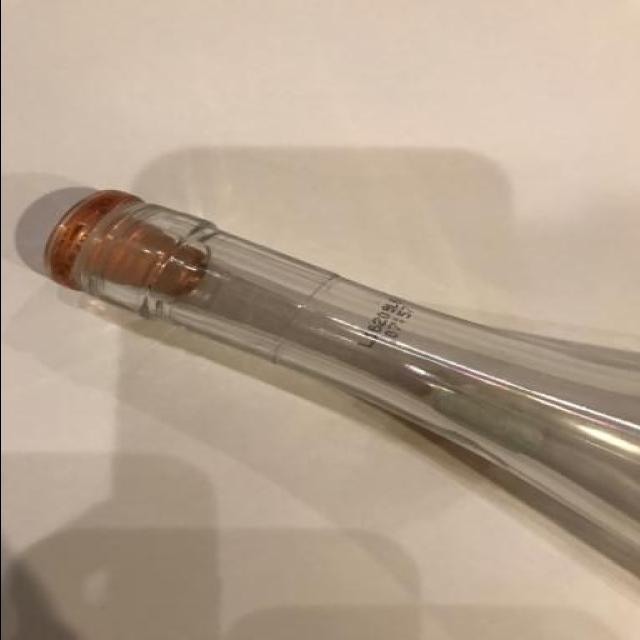Glass Bottle: (40, 187, 640, 578)
